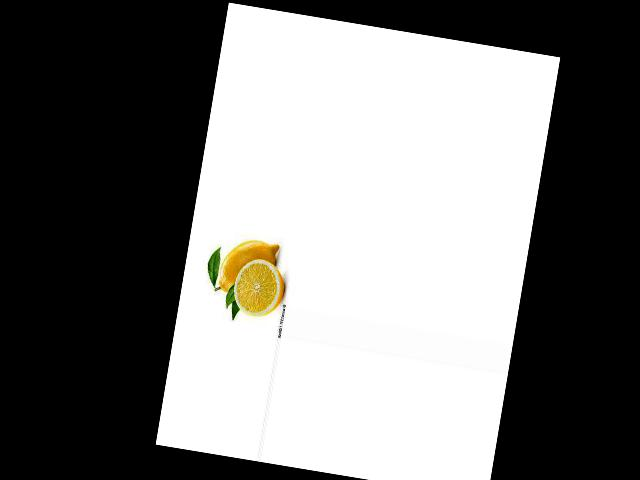lemon: (209, 227, 287, 308)
